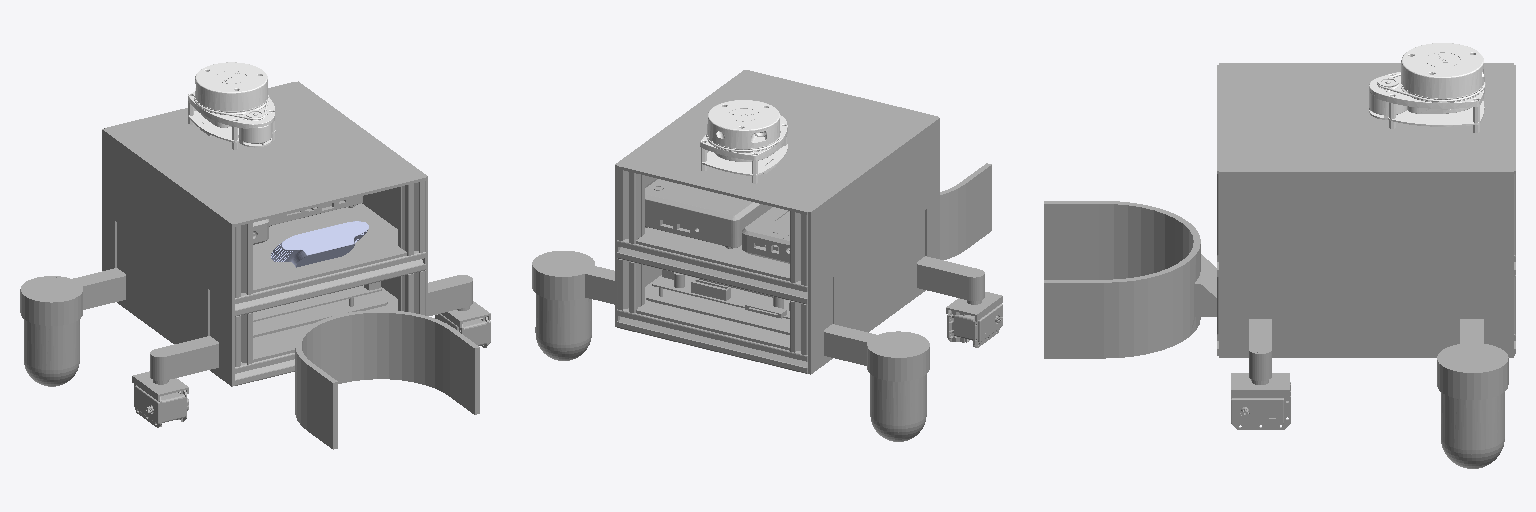
robot.urdf — modelball:
<?xml version="1.0" encoding="utf-8"?>
<!-- This URDF was automatically created by SolidWorks to URDF Exporter! Originally created by [author] ([email redacted]) 
     Commit Version: 1.5.1-0-g916b5db  Build Version: 1.5.7152.31018
     For more information, please see http://wiki.ros.org/sw_urdf_exporter -->
<robot
  name="modelball">
  <link
    name="base_link">
    <inertial>
      <origin
        xyz="0.108922864318346 0.0847241760555163 -0.123403521783607"
        rpy="0 0 0" />
      <mass
        value="3.90118326560914" />
      <inertia
        ixx="0.0186236720310461"
        ixy="-3.31789538660945E-07"
        ixz="-1.46573682201631E-06"
        iyy="0.0179160741187242"
        iyz="-8.06514530953854E-06"
        izz="0.00875282674130429" />
    </inertial>
    <visual>
      <origin
        xyz="0 0 0"
        rpy="0 0 0" />
      <geometry>
        <mesh
          filename="package://modelball/meshes/base_link.STL" />
      </geometry>
      <material
        name="">
        <color
          rgba="0.752941176470588 0.752941176470588 0.752941176470588 1" />
      </material>
    </visual>
    <collision>
      <origin
        xyz="0 0 0"
        rpy="0 0 0" />
      <geometry>
        <mesh
          filename="package://modelball/meshes/base_link.STL" />
      </geometry>
    </collision>
  </link>
  <link
    name="LFS">
    <inertial>
      <origin
        xyz="-0.015694 0.017418 0.0073567"
        rpy="0 0 0" />
      <mass
        value="0.26437" />
      <inertia
        ixx="6.2915E-05"
        ixy="2.9641E-09"
        ixz="1.6485E-08"
        iyy="6.2207E-05"
        iyz="1.5645E-07"
        izz="3.2075E-05" />
    </inertial>
    <visual>
      <origin
        xyz="0 0 0"
        rpy="0 0 0" />
      <geometry>
        <mesh
          filename="package://modelball/meshes/LFS.STL" />
      </geometry>
      <material
        name="">
        <color
          rgba="0.75294 0.75294 0.75294 1" />
      </material>
    </visual>
    <collision>
      <origin
        xyz="0 0 0"
        rpy="0 0 0" />
      <geometry>
        <mesh
          filename="package://modelball/meshes/LFS.STL" />
      </geometry>
    </collision>
  </link>
  <joint
    name="LFS"
    type="prismatic">
    <origin
      xyz="0.24112 0.018826 0"
      rpy="0 1.5708 0" />
    <parent
      link="base_link" />
    <child
      link="LFS" />
    <axis
      xyz="1 0 0" />
    <limit
      lower="0"
      upper="0"
      effort="0"
      velocity="0" />
  </joint>
  <link
    name="LFW">
    <inertial>
      <origin
        xyz="0.015 1.7347E-18 -3.4694E-18"
        rpy="0 0 0" />
      <mass
        value="0.23932" />
      <inertia
        ixx="0.00030041"
        ixy="-7.4821E-37"
        ixz="-1.7791E-38"
        iyy="0.00016815"
        iyz="-1.541E-36"
        izz="0.00016815" />
    </inertial>
    <visual>
      <origin
        xyz="0 0 0"
        rpy="0 0 0" />
      <geometry>
        <mesh
          filename="package://modelball/meshes/LFW.STL" />
      </geometry>
      <material
        name="">
        <color
          rgba="1 1 1 1" />
      </material>
    </visual>
    <collision>
      <origin
        xyz="0 0 0"
        rpy="0 0 0" />
      <geometry>
        <mesh
          filename="package://modelball/meshes/LFW.STL" />
      </geometry>
    </collision>
  </link>
  <joint
    name="LFW"
    type="continuous">
    <origin
      xyz="0.014801 0.0046744 0.050633"
      rpy="1.5708 -1.5708 0" />
    <parent
      link="LFS" />
    <child
      link="LFW" />
    <axis
      xyz="1 0 0" />
    <limit
      effort="3.1"
      velocity="7" />
  </joint>
  <link
    name="RFS">
    <inertial>
      <origin
        xyz="-0.015685 0.017931 0.0073567"
        rpy="0 0 0" />
      <mass
        value="0.26437" />
      <inertia
        ixx="6.2915E-05"
        ixy="2.9641E-09"
        ixz="-1.6485E-08"
        iyy="6.2207E-05"
        iyz="-1.5645E-07"
        izz="3.2075E-05" />
    </inertial>
    <visual>
      <origin
        xyz="0 0 0"
        rpy="0 0 0" />
      <geometry>
        <mesh
          filename="package://modelball/meshes/RFS.STL" />
      </geometry>
      <material
        name="">
        <color
          rgba="0.75294 0.75294 0.75294 1" />
      </material>
    </visual>
    <collision>
      <origin
        xyz="0 0 0"
        rpy="0 0 0" />
      <geometry>
        <mesh
          filename="package://modelball/meshes/RFS.STL" />
      </geometry>
    </collision>
  </link>
  <joint
    name="RFS"
    type="prismatic">
    <origin
      xyz="-0.025117 0.054174 0"
      rpy="3.1416 1.5708 0" />
    <parent
      link="base_link" />
    <child
      link="RFS" />
    <axis
      xyz="1 0 0" />
    <limit
      lower="0"
      upper="0"
      effort="0"
      velocity="0" />
  </joint>
  <link
    name="RFW">
    <inertial>
      <origin
        xyz="-0.015 6.7654E-17 4.5103E-17"
        rpy="0 0 0" />
      <mass
        value="0.23932" />
      <inertia
        ixx="0.00030041"
        ixy="-2.4108E-37"
        ixz="9.0565E-37"
        iyy="0.00016815"
        iyz="-1.6941E-21"
        izz="0.00016815" />
    </inertial>
    <visual>
      <origin
        xyz="0 0 0"
        rpy="0 0 0" />
      <geometry>
        <mesh
          filename="package://modelball/meshes/RFW.STL" />
      </geometry>
      <material
        name="">
        <color
          rgba="1 1 1 1" />
      </material>
    </visual>
    <collision>
      <origin
        xyz="0 0 0"
        rpy="0 0 0" />
      <geometry>
        <mesh
          filename="package://modelball/meshes/RFW.STL" />
      </geometry>
    </collision>
  </link>
  <joint
    name="RFW"
    type="continuous">
    <origin
      xyz="0.014799 0.030674 0.050633"
      rpy="1.64 1.5708 0" />
    <parent
      link="RFS" />
    <child
      link="RFW" />
    <axis
      xyz="1 0 0" />
    <limit
      effort="3.1"
      velocity="7" />
  </joint>
  <link
    name="LBS">
    <inertial>
      <origin
        xyz="0.0023416 0.011605 0.0030325"
        rpy="0 0 0" />
      <mass
        value="0.18193" />
      <inertia
        ixx="0.00015842"
        ixy="3.541E-07"
        ixz="-1.5136E-20"
        iyy="0.0001879"
        iyz="-4.2486E-20"
        izz="0.00010696" />
    </inertial>
    <visual>
      <origin
        xyz="0 0 0"
        rpy="0 0 0" />
      <geometry>
        <mesh
          filename="package://modelball/meshes/LBS.STL" />
      </geometry>
      <material
        name="">
        <color
          rgba="0.75294 0.75294 0.75294 1" />
      </material>
    </visual>
    <collision>
      <origin
        xyz="0 0 0"
        rpy="0 0 0" />
      <geometry>
        <mesh
          filename="package://modelball/meshes/LBS.STL" />
      </geometry>
    </collision>
  </link>
  <joint
    name="LBS"
    type="prismatic">
    <origin
      xyz="0.28235 0.22575 0"
      rpy="3.1416 0 0" />
    <parent
      link="base_link" />
    <child
      link="LBS" />
    <axis
      xyz="0 0 1" />
    <limit
      lower="0"
      upper="0"
      effort="0"
      velocity="0" />
  </joint>
  <link
    name="RBS">
    <inertial>
      <origin
        xyz="0.0023416 0.011605 0.0030325"
        rpy="0 0 0" />
      <mass
        value="0.18193" />
      <inertia
        ixx="0.00015842"
        ixy="3.541E-07"
        ixz="1.4744E-21"
        iyy="0.0001879"
        iyz="-7.5198E-21"
        izz="0.00010696" />
    </inertial>
    <visual>
      <origin
        xyz="0 0 0"
        rpy="0 0 0" />
      <geometry>
        <mesh
          filename="package://modelball/meshes/RBS.STL" />
      </geometry>
      <material
        name="">
        <color
          rgba="0.75294 0.75294 0.75294 1" />
      </material>
    </visual>
    <collision>
      <origin
        xyz="0 0 0"
        rpy="0 0 0" />
      <geometry>
        <mesh
          filename="package://modelball/meshes/RBS.STL" />
      </geometry>
    </collision>
  </link>
  <joint
    name="RBS"
    type="prismatic">
    <origin
      xyz="-0.06635 0.20125 0"
      rpy="3.1416 0 3.1416" />
    <parent
      link="base_link" />
    <child
      link="RBS" />
    <axis
      xyz="0 0 1" />
    <limit
      lower="0"
      upper="0"
      effort="0"
      velocity="0" />
  </joint>
  <link
    name="fcam">
    <inertial>
      <origin
        xyz="0.049836 0.061784 0.068723"
        rpy="0 0 0" />
      <mass
        value="0.043612" />
      <inertia
        ixx="4.2948E-06"
        ixy="-8.8579E-10"
        ixz="-1.0181E-09"
        iyy="2.2106E-05"
        iyz="2.1758E-08"
        izz="2.3571E-05" />
    </inertial>
    <visual>
      <origin
        xyz="0 0 0"
        rpy="0 0 0" />
      <geometry>
        <mesh
          filename="package://modelball/meshes/fcam.STL" />
      </geometry>
      <material
        name="">
        <color
          rgba="0.79216 0.81961 0.93333 1" />
      </material>
    </visual>
    <collision>
      <origin
        xyz="0 0 0"
        rpy="0 0 0" />
      <geometry>
        <mesh
          filename="package://modelball/meshes/fcam.STL" />
      </geometry>
    </collision>
  </link>
  <joint
    name="fcam"
    type="fixed">
    <origin
      xyz="0.058161 0.080277 0.092507"
      rpy="1.5708 0 0" />
    <parent
      link="base_link" />
    <child
      link="fcam" />
    <axis
      xyz="0 0 0" />
  </joint>
  <link
    name="bcam">
    <inertial>
      <origin
        xyz="0.049836 0.061784 0.068723"
        rpy="0 0 0" />
      <mass
        value="0.043612" />
      <inertia
        ixx="4.2948E-06"
        ixy="-8.8548E-10"
        ixz="-1.0183E-09"
        iyy="2.2106E-05"
        iyz="2.1758E-08"
        izz="2.3571E-05" />
    </inertial>
    <visual>
      <origin
        xyz="0 0 0"
        rpy="0 0 0" />
      <geometry>
        <mesh
          filename="package://modelball/meshes/bcam.STL" />
      </geometry>
      <material
        name="">
        <color
          rgba="0.79216 0.81961 0.93333 1" />
      </material>
    </visual>
    <collision>
      <origin
        xyz="0 0 0"
        rpy="0 0 0" />
      <geometry>
        <mesh
          filename="package://modelball/meshes/bcam.STL" />
      </geometry>
    </collision>
  </link>
  <joint
    name="bcam"
    type="fixed">
    <origin
      xyz="0.058161 0.11013 0.12322"
      rpy="2.3562 0 0" />
    <parent
      link="base_link" />
    <child
      link="bcam" />
    <axis
      xyz="0 0 0" />
  </joint>
  <link
    name="Lidar">
    <inertial>
      <origin
        xyz="0 0 0"
        rpy="0 0 0" />
      <mass
        value="0" />
      <inertia
        ixx="0"
        ixy="0"
        ixz="0"
        iyy="0"
        iyz="0"
        izz="0" />
    </inertial>
    <visual>
      <origin
        xyz="0 0 0"
        rpy="0 0 0" />
      <geometry>
        <mesh
          filename="package://modelball/meshes/Lidar.STL" />
      </geometry>
      <material
        name="">
        <color
          rgba="1 1 1 1" />
      </material>
    </visual>
    <collision>
      <origin
        xyz="0 0 0"
        rpy="0 0 0" />
      <geometry>
        <mesh
          filename="package://modelball/meshes/Lidar.STL" />
      </geometry>
    </collision>
  </link>
  <joint
    name="Lidar"
    type="fixed">
    <origin
      xyz="0.24092 0.09856 -0.54869"
      rpy="-1.5708 0 -1.5708" />
    <parent
      link="base_link" />
    <child
      link="Lidar" />
    <axis
      xyz="0 0 0" />
  </joint>
</robot>

--- Render facts (derived) ---
3 views of the same robot in one strip: view 1: azimuth 30°, elevation 25°; view 2: azimuth 150°, elevation 25°; view 3: azimuth 270°, elevation 25° (orthographic).
Model modelball with 10 links and 9 joints (2 continuous, 4 prismatic, 3 fixed), rooted at base_link, posed all joints at 0.
Visible links, largest first — view 1: base_link, RBS, Lidar, RFS, LFS, bcam; view 2: base_link, RBS, LBS, Lidar, RFS; view 3: base_link, LBS, Lidar, LFS.
Boxes of the visible links, bbox=[...] form: base_link: bbox=[102, 81, 479, 449]; RBS: bbox=[20, 268, 125, 386]; Lidar: bbox=[188, 62, 275, 149]; RFS: bbox=[132, 336, 218, 427]; LFS: bbox=[428, 275, 490, 347]; bcam: bbox=[271, 221, 368, 267]; base_link: bbox=[615, 70, 991, 374]; RBS: bbox=[824, 324, 929, 441]; LBS: bbox=[532, 251, 614, 360]; Lidar: bbox=[700, 100, 787, 183]; RFS: bbox=[917, 256, 1002, 347]; base_link: bbox=[1044, 63, 1515, 358]; LBS: bbox=[1437, 319, 1508, 468]; Lidar: bbox=[1369, 43, 1485, 132]; LFS: bbox=[1231, 319, 1290, 429].
Size in the robot's own frame: 0.428 by 0.3943 by 0.2893 metres.
7 mesh visuals loaded from 10 distinct referenced files (7 binary STL); not drawn: 3 (reference not matched to a file when rendering).